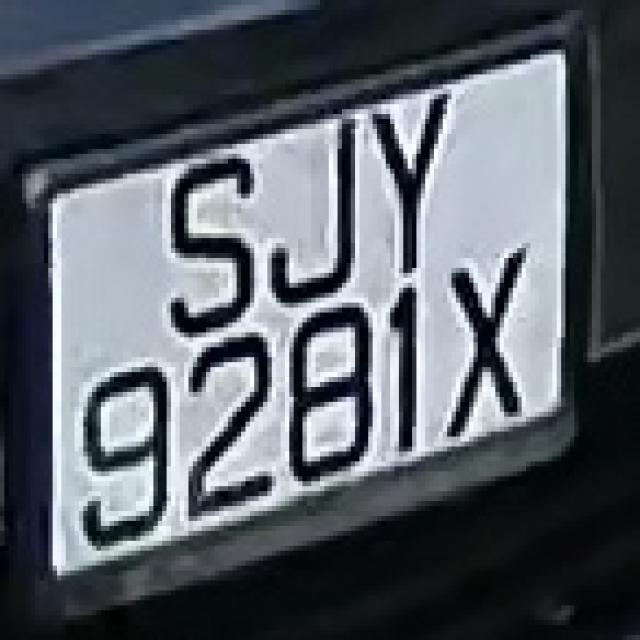1: (386, 263, 430, 486)
2: (176, 337, 280, 526)
8: (276, 288, 386, 486)
9: (66, 362, 171, 576)
J: (272, 99, 368, 313)
S: (167, 139, 285, 347)
X: (447, 248, 544, 442)
Y: (350, 84, 478, 293)
